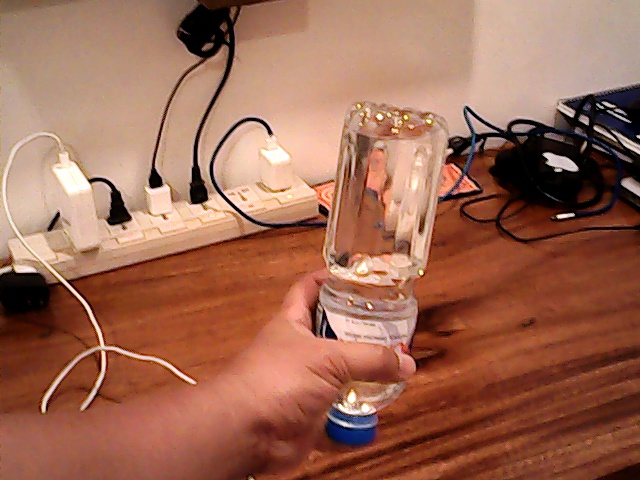Summit Water: (300, 125, 444, 439)
